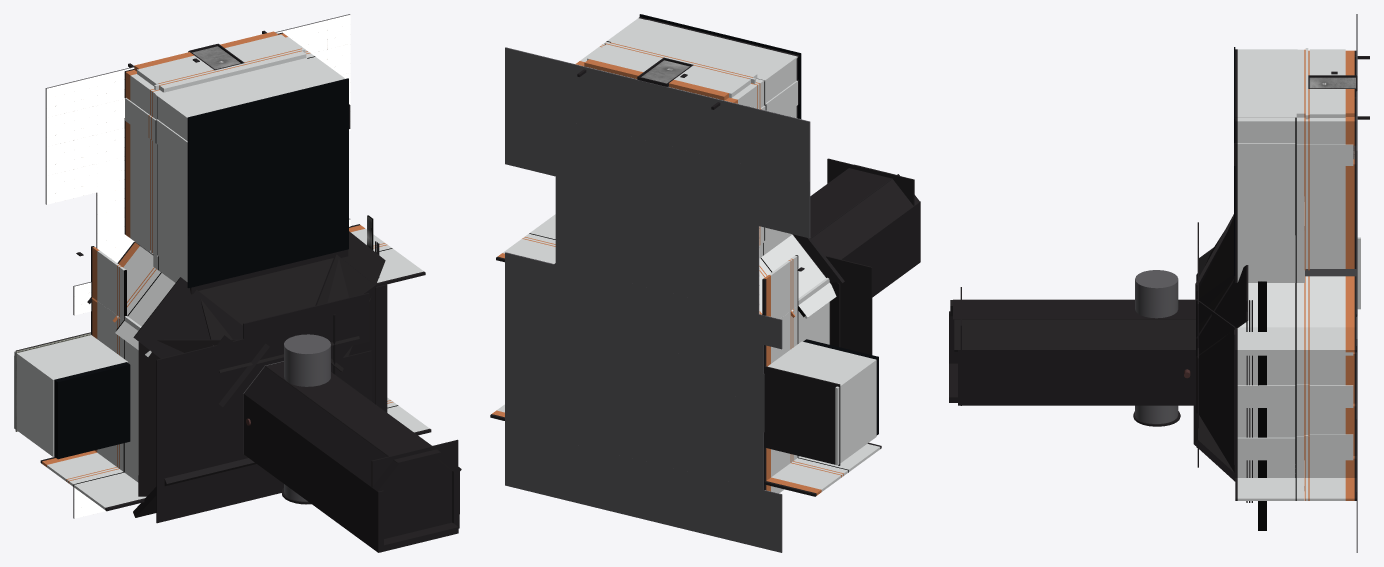
File: scp_gate_a.fbx
3 views of the same model, side by side, from view 1: azimuth 30°, elevation 25°; view 2: azimuth 150°, elevation 25°; view 3: azimuth 270°, elevation 25° (orthographic). The views are drawn at different scales.
Visible parts, largest first — view 1: Object_13, Object_25, Object_19, Object_12, Object_17, Object_15, Object_6, Object_11, Object_18, Object_8; view 2: Object_11, Object_25, Object_13, Object_6, Object_17, Object_19, Object_8; view 3: Object_25, Object_13, Object_17, Object_15, Object_6, Object_14, Object_11, Object_18, Object_24, Object_8.
Part boxes in pixels (box(x1,y1,x2,y2)): Object_13: box(133, 231, 461, 552); Object_25: box(14, 34, 429, 509); Object_19: box(54, 78, 348, 459); Object_12: box(46, 14, 350, 518); Object_17: box(42, 31, 393, 483); Object_15: box(135, 242, 330, 501); Object_6: box(15, 30, 431, 511); Object_11: box(45, 14, 350, 518); Object_18: box(73, 56, 398, 486); Object_8: box(192, 46, 240, 69); Object_11: box(505, 47, 810, 552); Object_25: box(497, 18, 880, 493); Object_13: box(793, 158, 920, 354); Object_6: box(490, 17, 881, 496); Object_17: box(492, 42, 843, 495); Object_19: box(639, 14, 878, 435); Object_8: box(641, 60, 689, 83); Object_25: box(1237, 48, 1360, 500); Object_13: box(949, 214, 1248, 481); Object_17: box(1304, 49, 1354, 500); Object_15: box(1135, 269, 1356, 423); Object_6: box(1133, 49, 1369, 500); Object_14: box(1258, 281, 1266, 530); Object_11: box(1356, 14, 1357, 552); Object_18: box(1295, 117, 1296, 500); Object_24: box(1246, 71, 1357, 502); Object_8: box(1309, 77, 1355, 88).
Bounding box in the file's own units: 57.89 × 69.87 × 65.6.
Materials: 24 (12 with a texture image).
